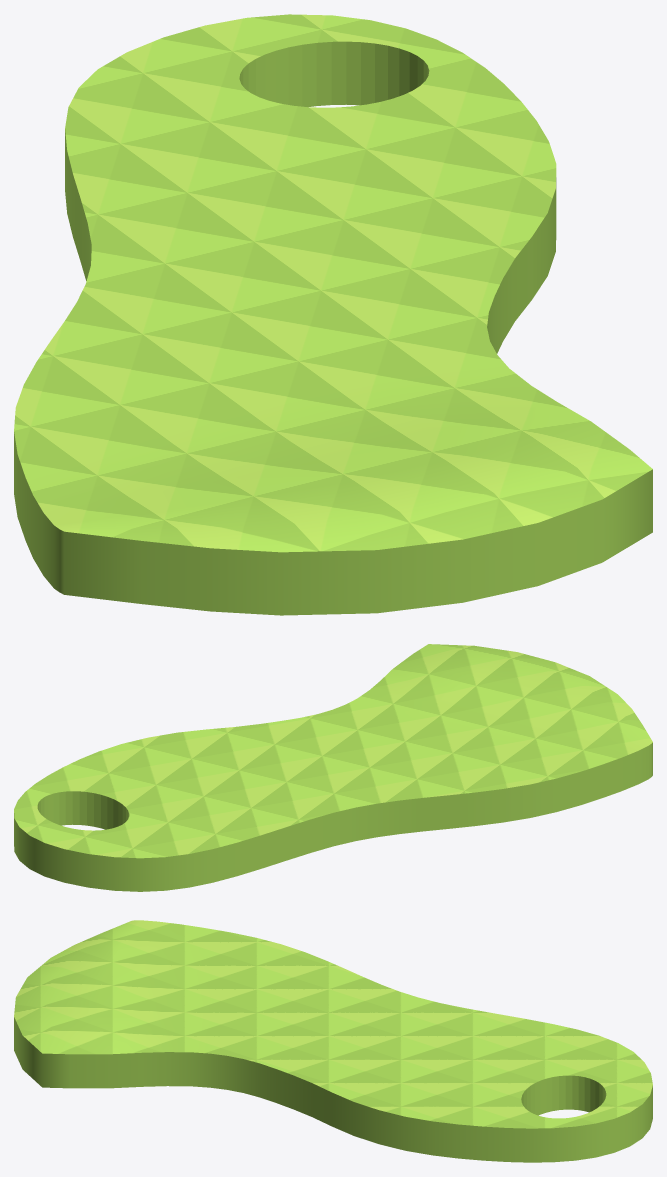
The model's file is land1.fbx.
The picture shows the model from 3 angles, top to bottom: view 1: azimuth 30°, elevation 25°; view 2: azimuth 150°, elevation 25°; view 3: azimuth 270°, elevation 25°; orthographic projection. The views are drawn at different scales.
Parts seen in each view (by area): view 1: caodi1; view 2: caodi1; view 3: caodi1.
Boxes of the visible parts, x1=… form: caodi1: x1=14, y1=14, x2=652, y2=615; caodi1: x1=14, y1=644, x2=652, y2=891; caodi1: x1=14, y1=920, x2=652, y2=1162.
Size of the model in its own units: 66 by 6.85 by 85.56.
Materials: 1 (1 with a texture image).
